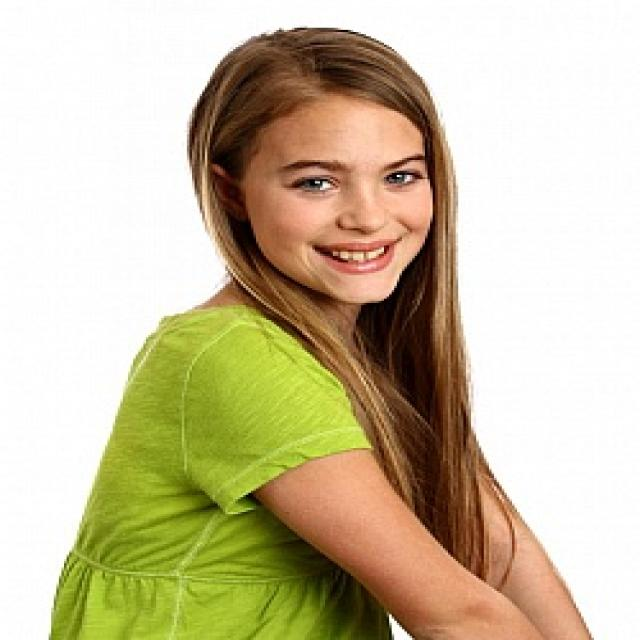Eyes: (278, 162, 433, 208)
